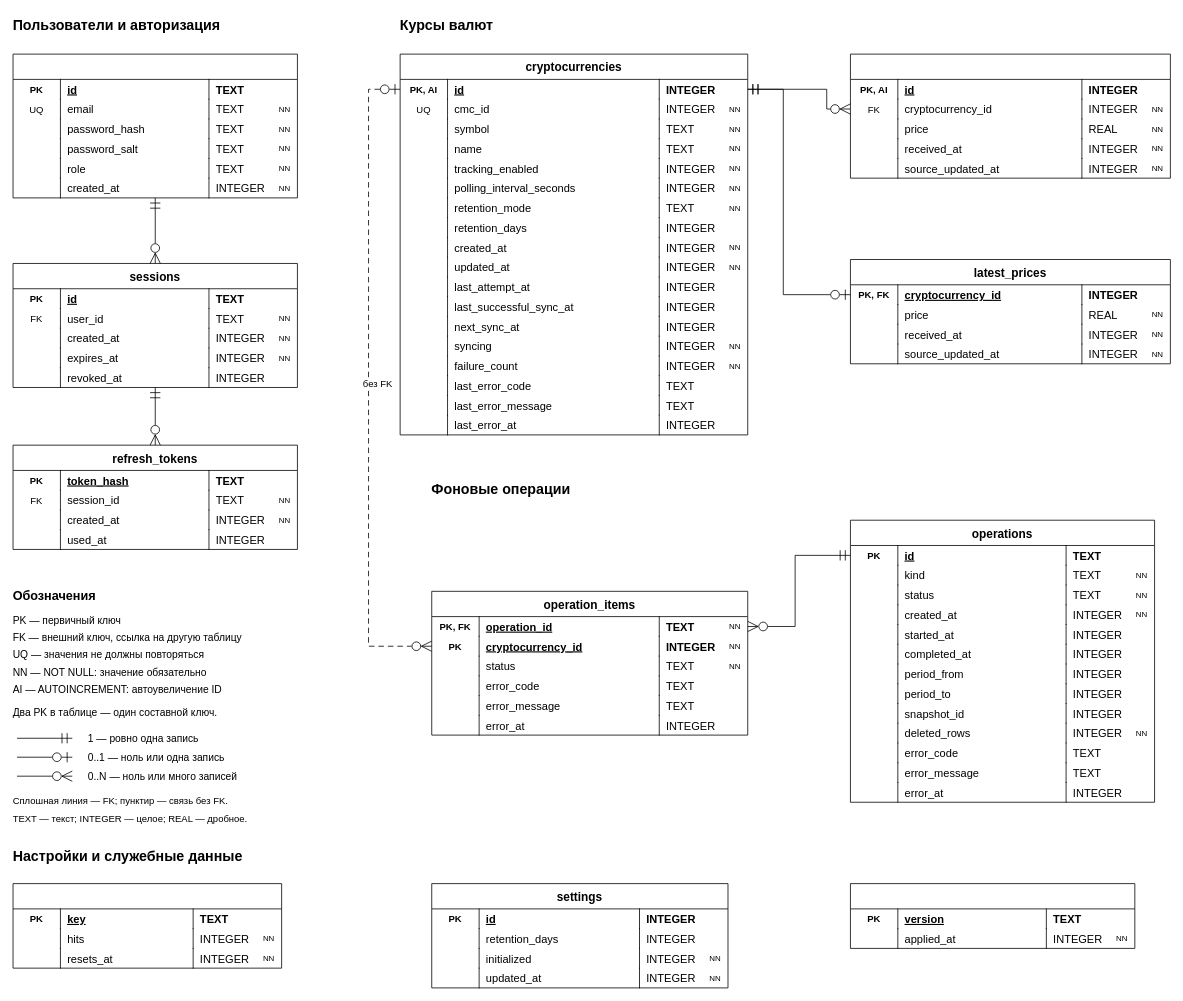
Image size: 1183x1001. Some labels were removed from this diagram. Here are the shapes that lost their labels. From the top down, the box of each, then its label:
(12, 53, 297, 198): users
(850, 53, 1170, 178): price_history
(12, 883, 282, 968): rate_limits
(850, 883, 1135, 948): schema_migrations
